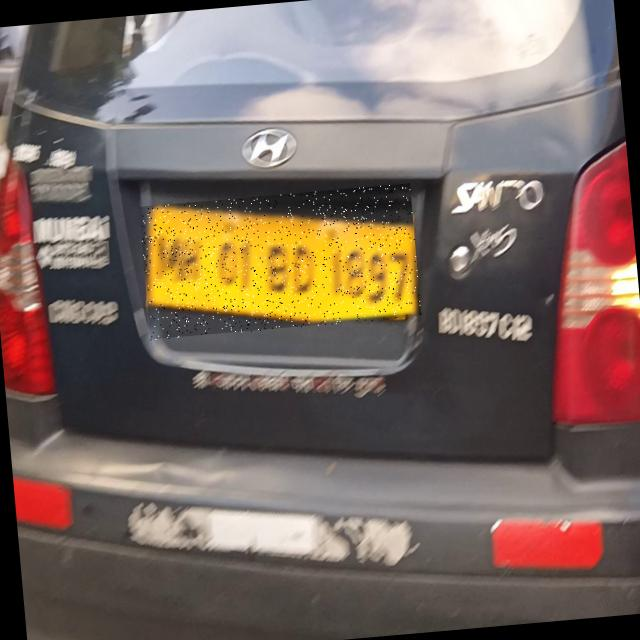Plate: (140, 185, 423, 342)
